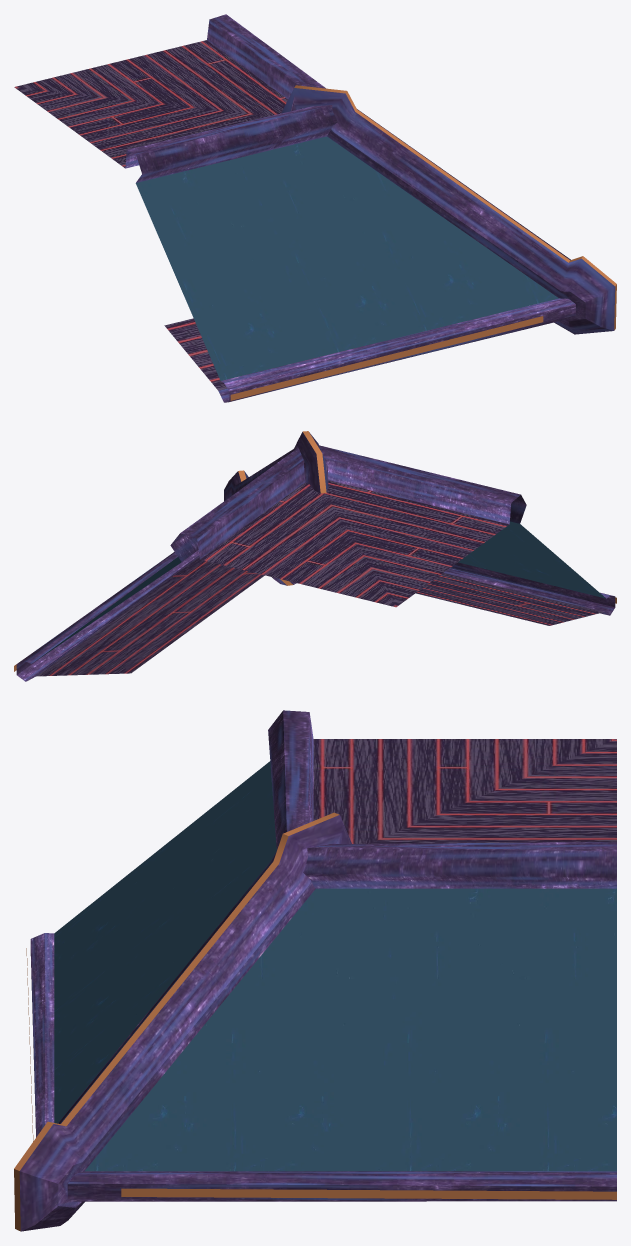
File: temple-roof01corner-art.glb
3 views of the same model, one above another, from view 1: azimuth 30°, elevation 25°; view 2: azimuth 150°, elevation 25°; view 3: azimuth 270°, elevation 25° (orthographic). The views are drawn at different scales.
Parts seen in each view (by area): view 1: TempleRoof01Corner_Art; view 2: TempleRoof01Corner_Art; view 3: TempleRoof01Corner_Art.
Part boxes in pixels (x1=…): TempleRoof01Corner_Art: x1=14, y1=14, x2=616, y2=402; TempleRoof01Corner_Art: x1=14, y1=431, x2=616, y2=681; TempleRoof01Corner_Art: x1=14, y1=710, x2=616, y2=1231.
Size of the model in its own units: 8.84 by 4.74 by 8.84.
Materials: 4 (4 with a texture image).
